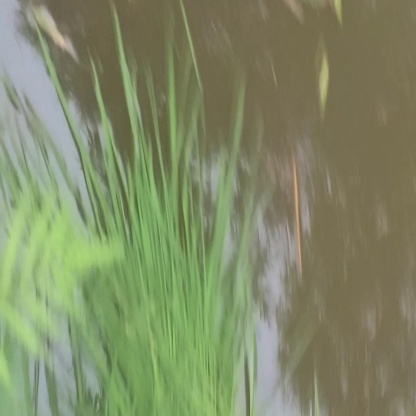grass: (72, 152, 262, 408)
